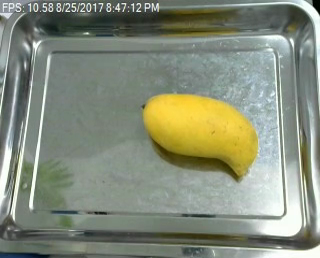Mango: (135, 88, 256, 180)
